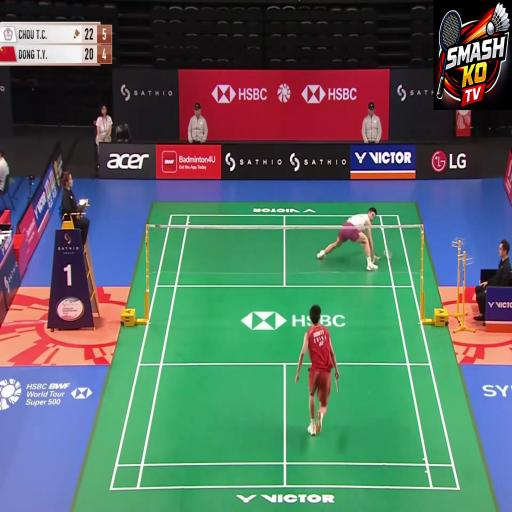player: (304, 304, 348, 455), (338, 190, 375, 297)
